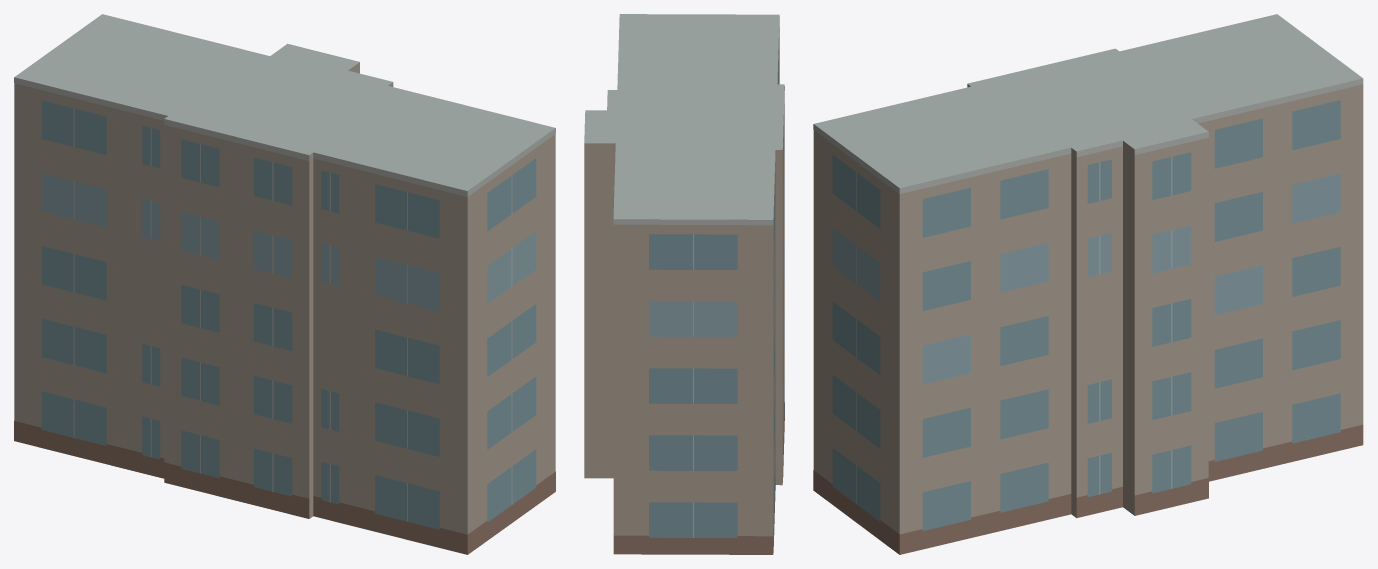
Rendered from survey-upis-32727193.glb.
3 renders of one model, left to right at view 1: azimuth 30°, elevation 25°; view 2: azimuth 150°, elevation 25°; view 3: azimuth 270°, elevation 25°, orthographic. The views are drawn at different scales.
Visible parts, largest first — view 1: survey-upis-32727193.tmp; view 2: survey-upis-32727193.tmp; view 3: survey-upis-32727193.tmp.
Part boxes in pixels (box(x1,y1,x2,y2)): survey-upis-32727193.tmp: box(14, 14, 555, 554); survey-upis-32727193.tmp: box(584, 14, 784, 554); survey-upis-32727193.tmp: box(813, 14, 1363, 554).
Bounding box in the file's own units: 15.55 × 15.25 × 20.74.
